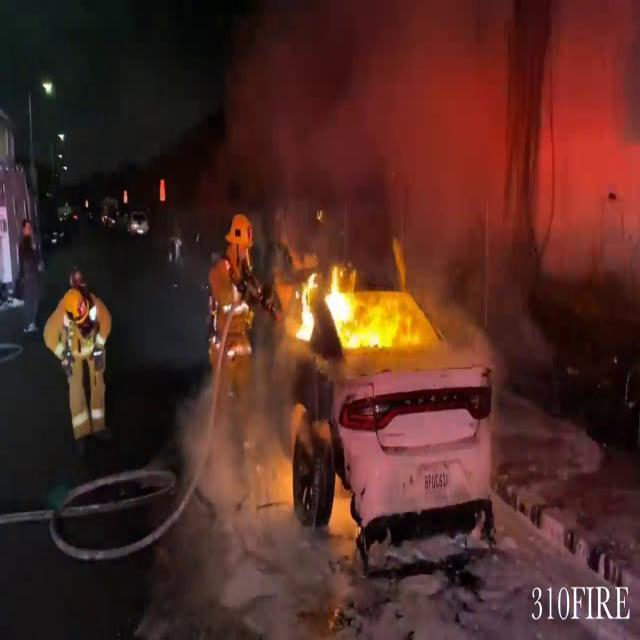Fire: (290, 256, 430, 358)
Smoke: (243, 0, 446, 226)
